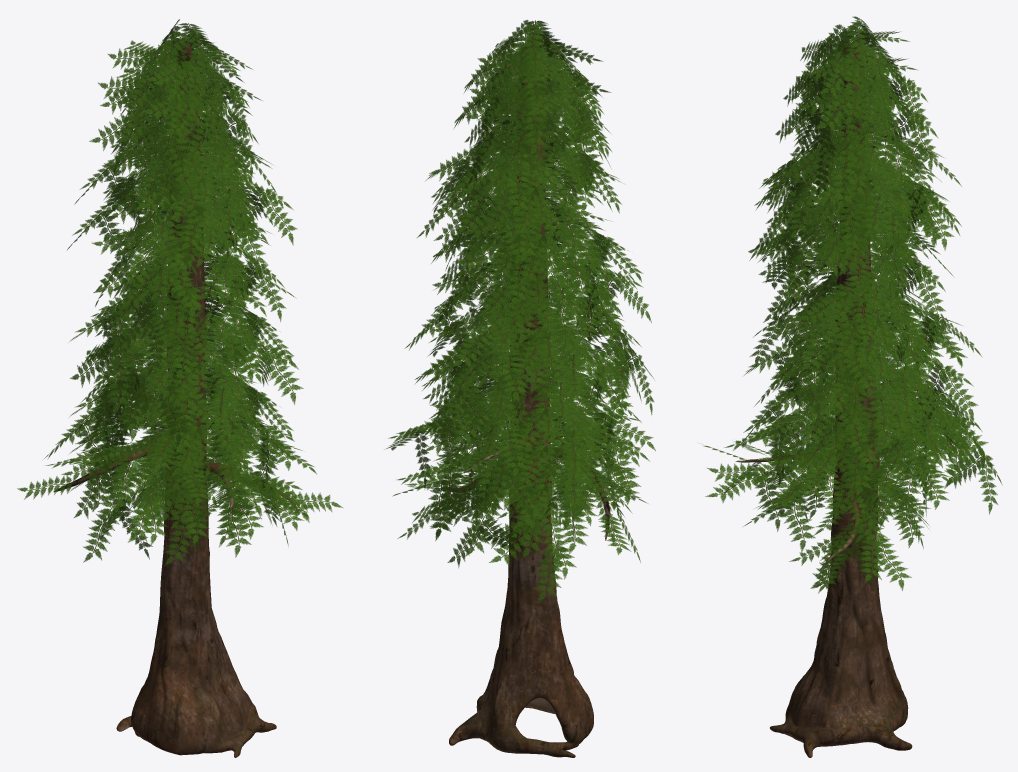
The model's file is tree-cedar-western-red.glb.
3 views of the same model, side by side, from view 1: azimuth 30°, elevation 25°; view 2: azimuth 150°, elevation 25°; view 3: azimuth 270°, elevation 25° (orthographic).
Visible parts, largest first — view 1: Leaves, Tree; view 2: Leaves, Tree; view 3: Leaves, Tree.
Part boxes in pixels (x1,y1,x2,y2): Leaves: (17,19,342,566); Tree: (53,43,297,757); Leaves: (385,20,655,603); Tree: (448,43,610,757); Leaves: (703,16,1002,593); Tree: (735,44,960,757).
Bounding box in the file's own units: 0.0603 × 0.1441 × 0.0576.
Materials: 2 (2 with a texture image).
